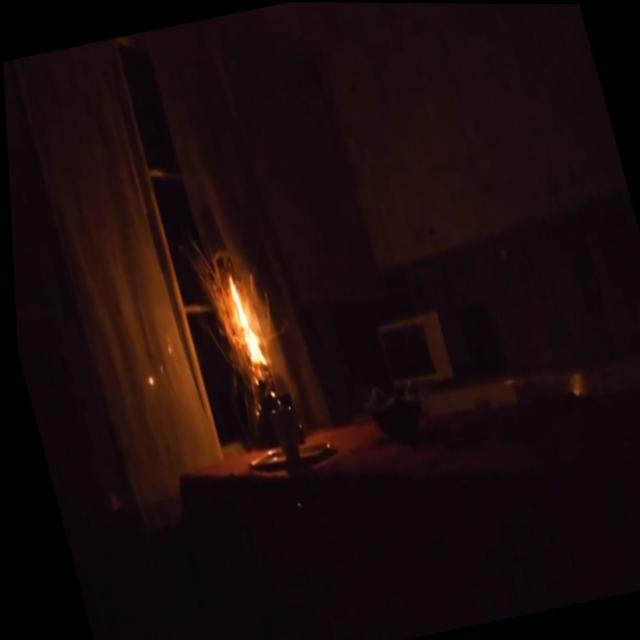fire: (214, 264, 274, 377)
